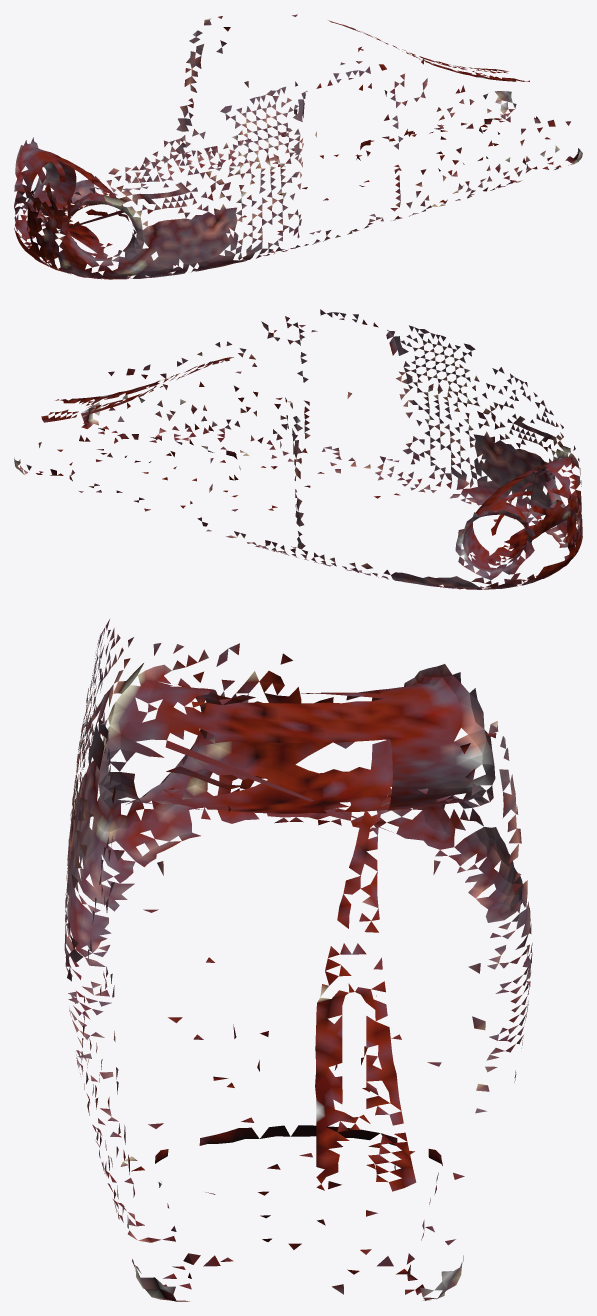
File: whistle_final600.obj
3 views of the same model, one above another, from view 1: azimuth 30°, elevation 25°; view 2: azimuth 150°, elevation 25°; view 3: azimuth 270°, elevation 25° (orthographic). The views are drawn at different scales.
Size of the model in its own units: 1.92 by 0.5748 by 0.7495.
